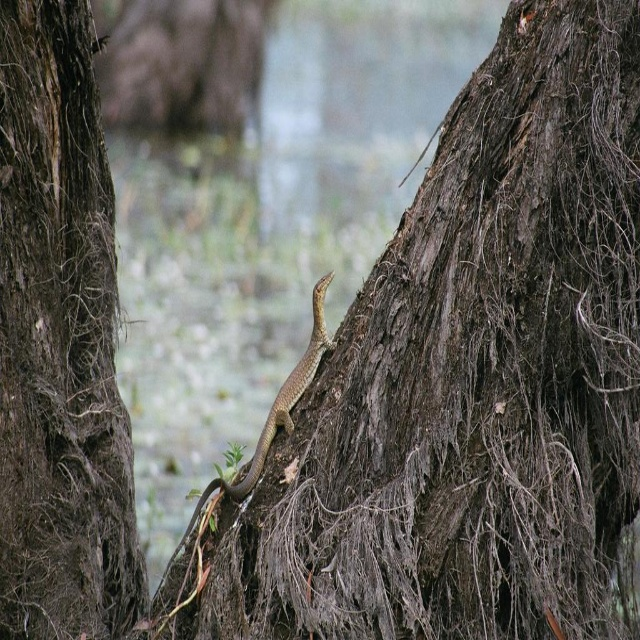Lizard: (152, 266, 346, 606)
